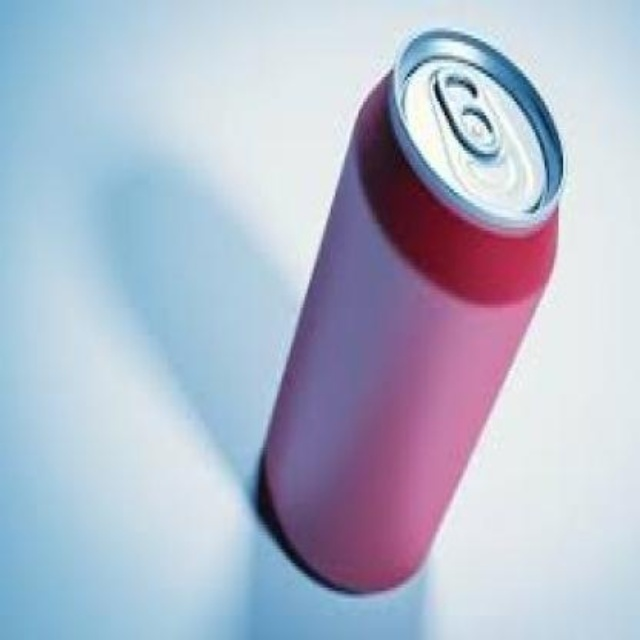trash: (258, 29, 562, 591)
